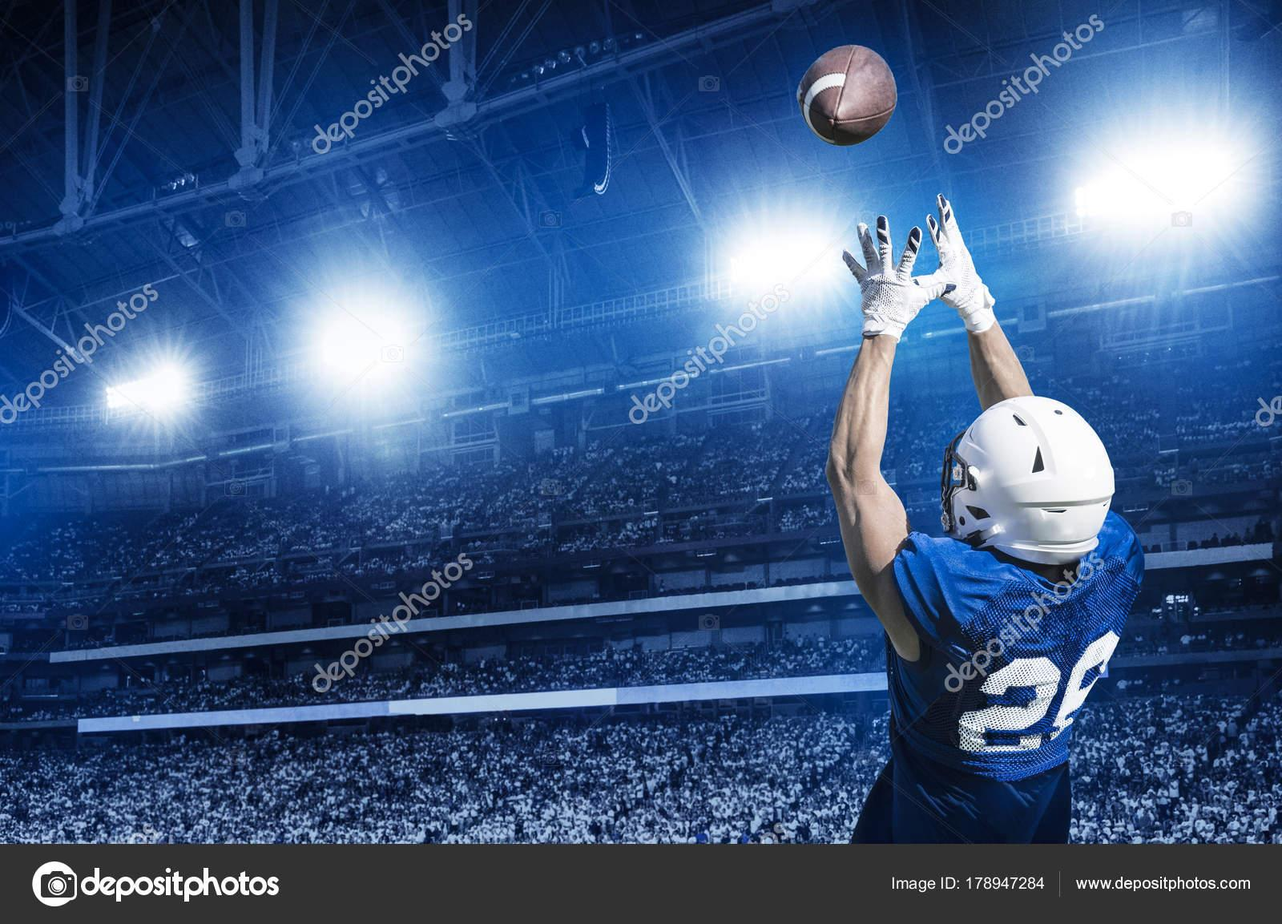americanFootball: (800, 39, 897, 144)
